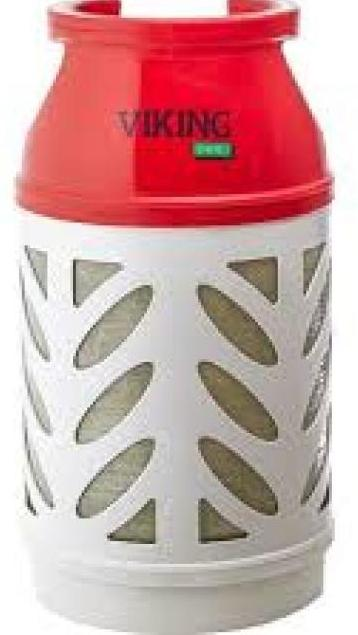cylinder: (1, 1, 358, 635)
